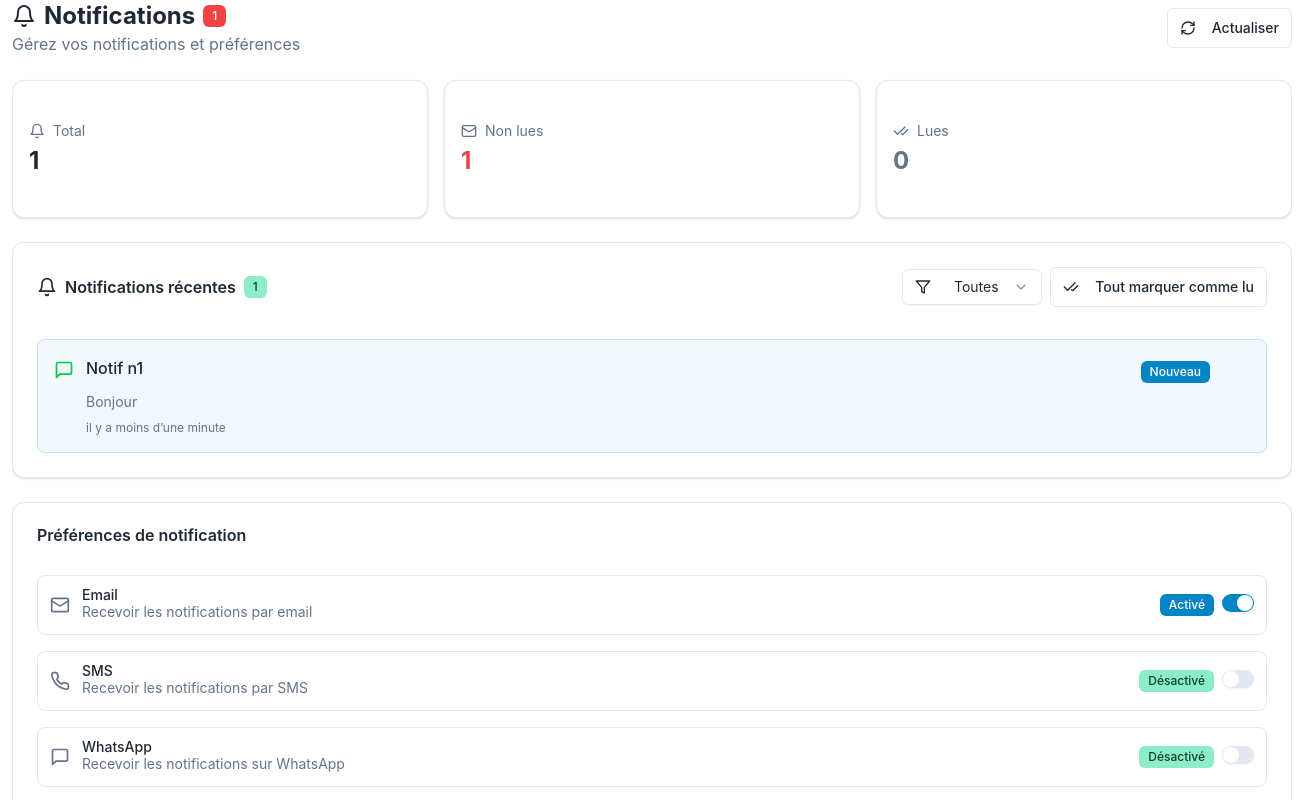
Test: ouvre la conversation ciblée et marque la notification comme lue
The image size is (1304, 800).
Click the link "Notif n1 Nouveau Bonjour il y a moins d’une minute" at (652, 396), box [37,339,1267,453]
(page scrolled)
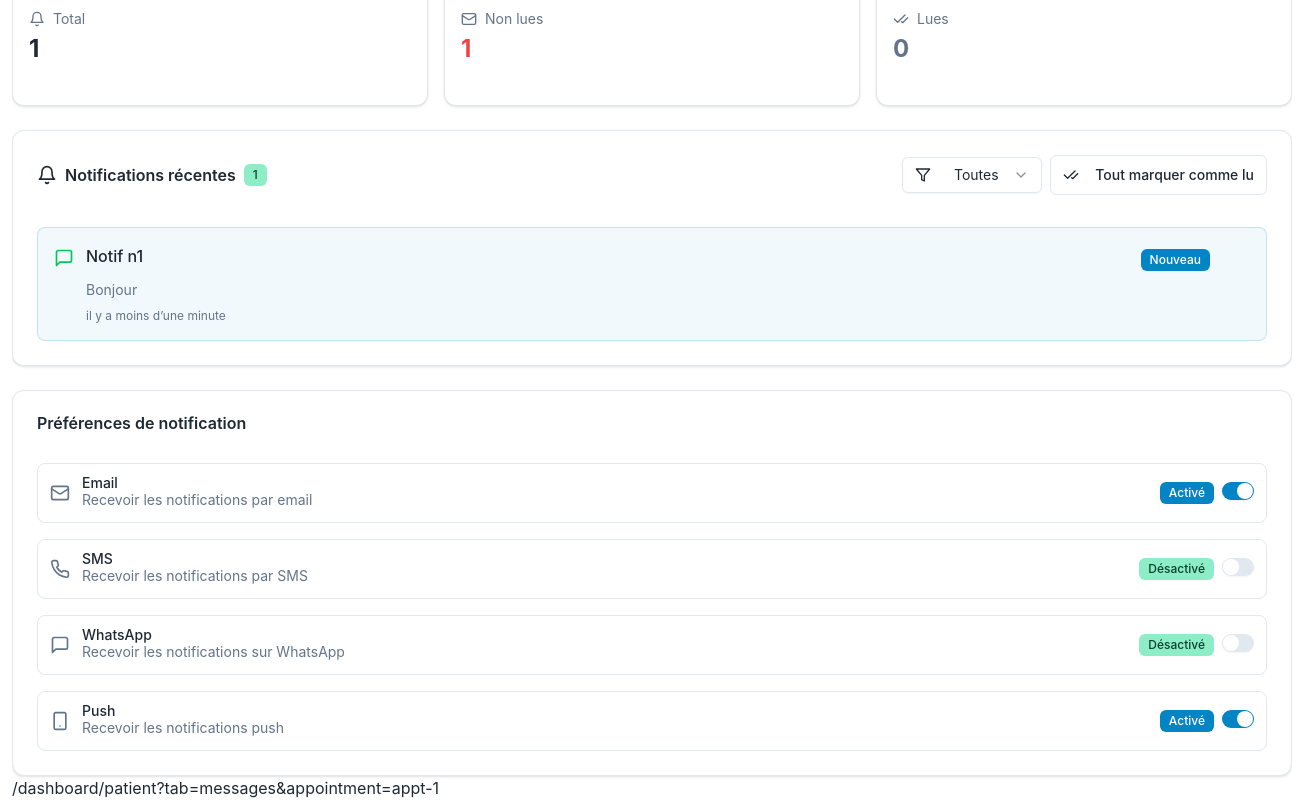
Check: the text with test id "location" reads "/dashboard/patient?tab=messages&appointment=appt-1", box [12,778,439,798]
